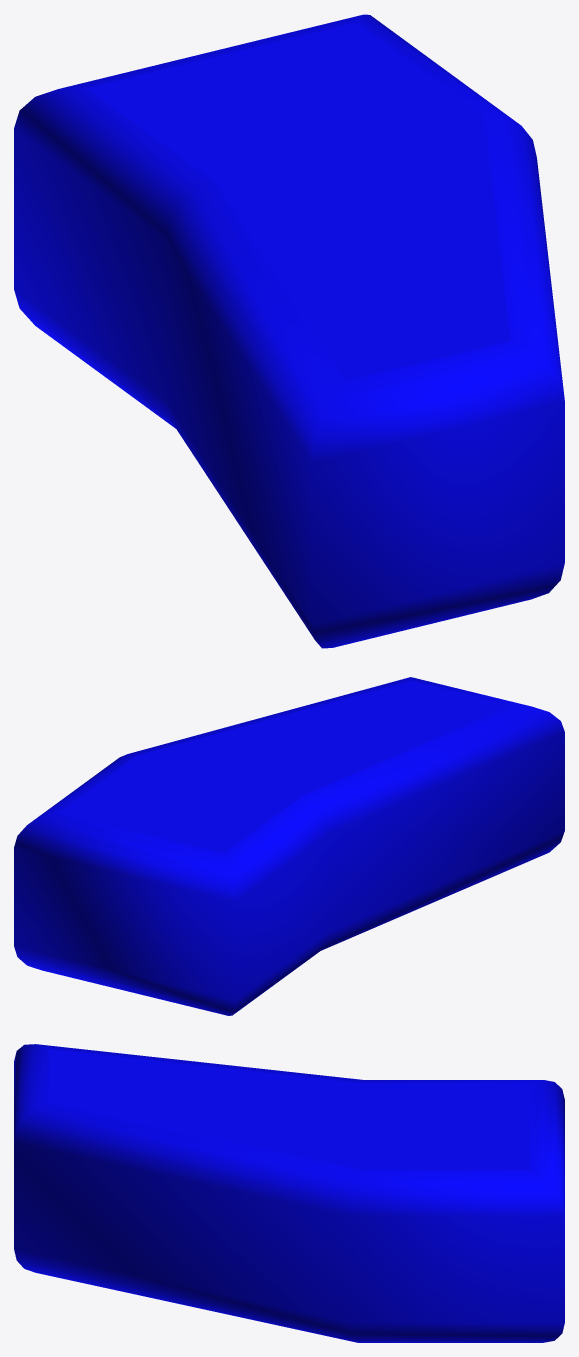
The picture shows the model from 3 angles, top to bottom: view 1: azimuth 30°, elevation 25°; view 2: azimuth 150°, elevation 25°; view 3: azimuth 270°, elevation 25°; orthographic projection. The views are drawn at different scales.
Parts seen in each view (by area): view 1: 44; view 2: 44; view 3: 44.
Part boxes in pixels (left/top/right/bottom): 44: left=14, top=14, right=564, bottom=648; 44: left=14, top=677, right=564, bottom=1015; 44: left=14, top=1044, right=564, bottom=1342.
Bounding box in the file's own units: 0.3131 × 0.16 × 0.4707.
